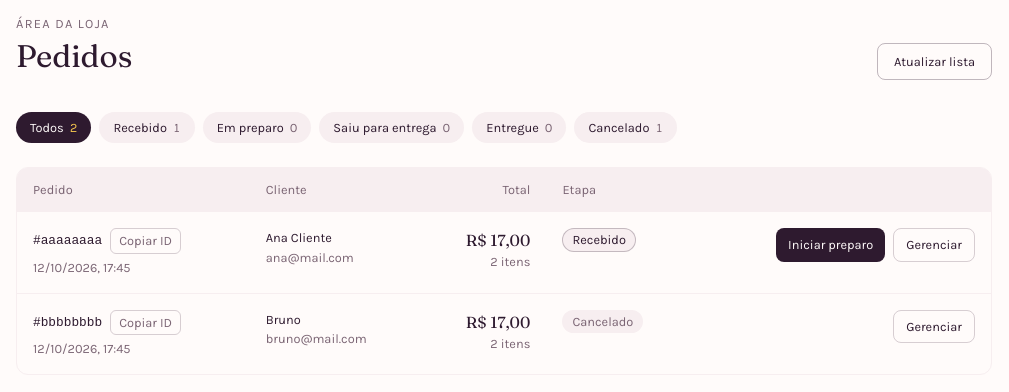
Pedidos da loja › filtro por etapa mostra a contagem e esconde as outras etapas
Click the button "Cancelado1".
click(626, 128)  # box [574,112,677,143]
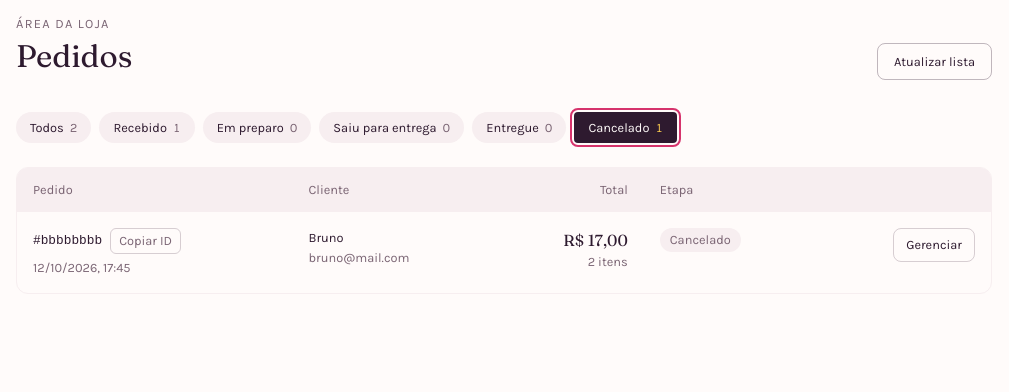
Expected: the text "Bruno" is shown, [308,230,344,245]
Now the text "Ana Cliente" is gone
